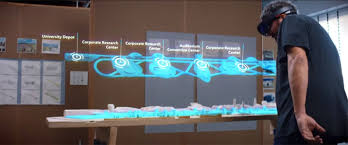hololens: (256, 6, 300, 37)
